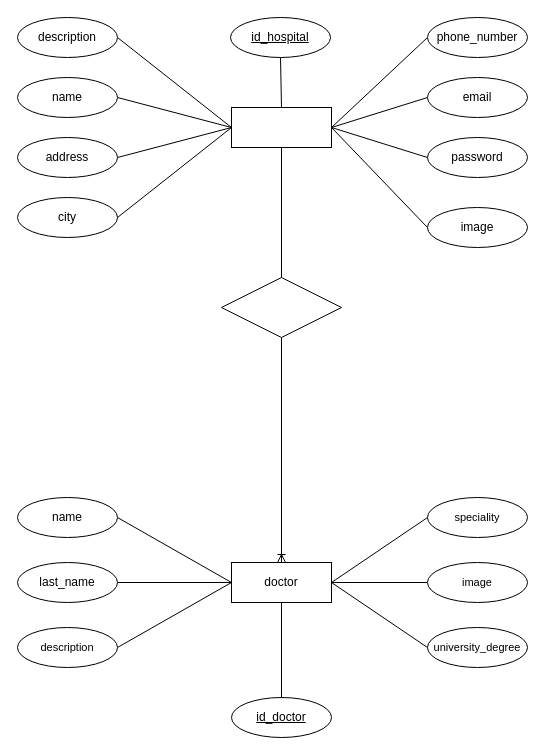
The diagram is 545 pixels wide and 755 high, and some of its shapes have lost their labels. The shapes that lost their labels are listed below. From the top down, each one's box as (x1, y1, x2, y2) in pixels, then its label:
(230, 106, 332, 148): hospital
(220, 276, 342, 338): has
